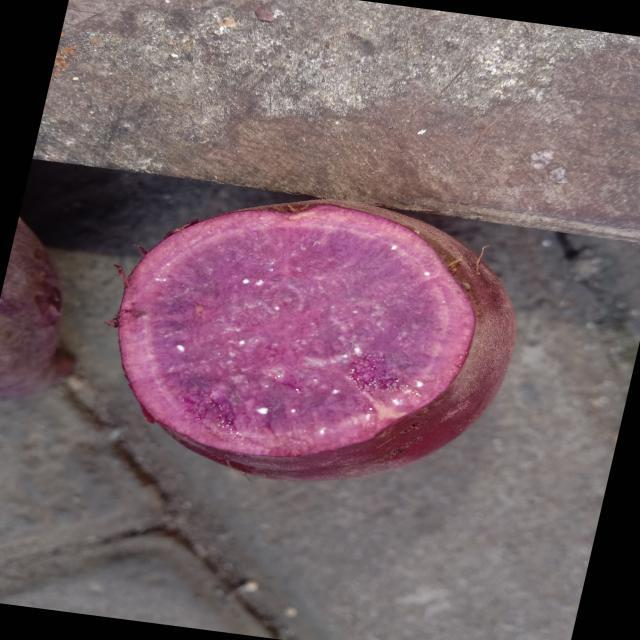Healthy Sweet Potato: (118, 205, 475, 456)
